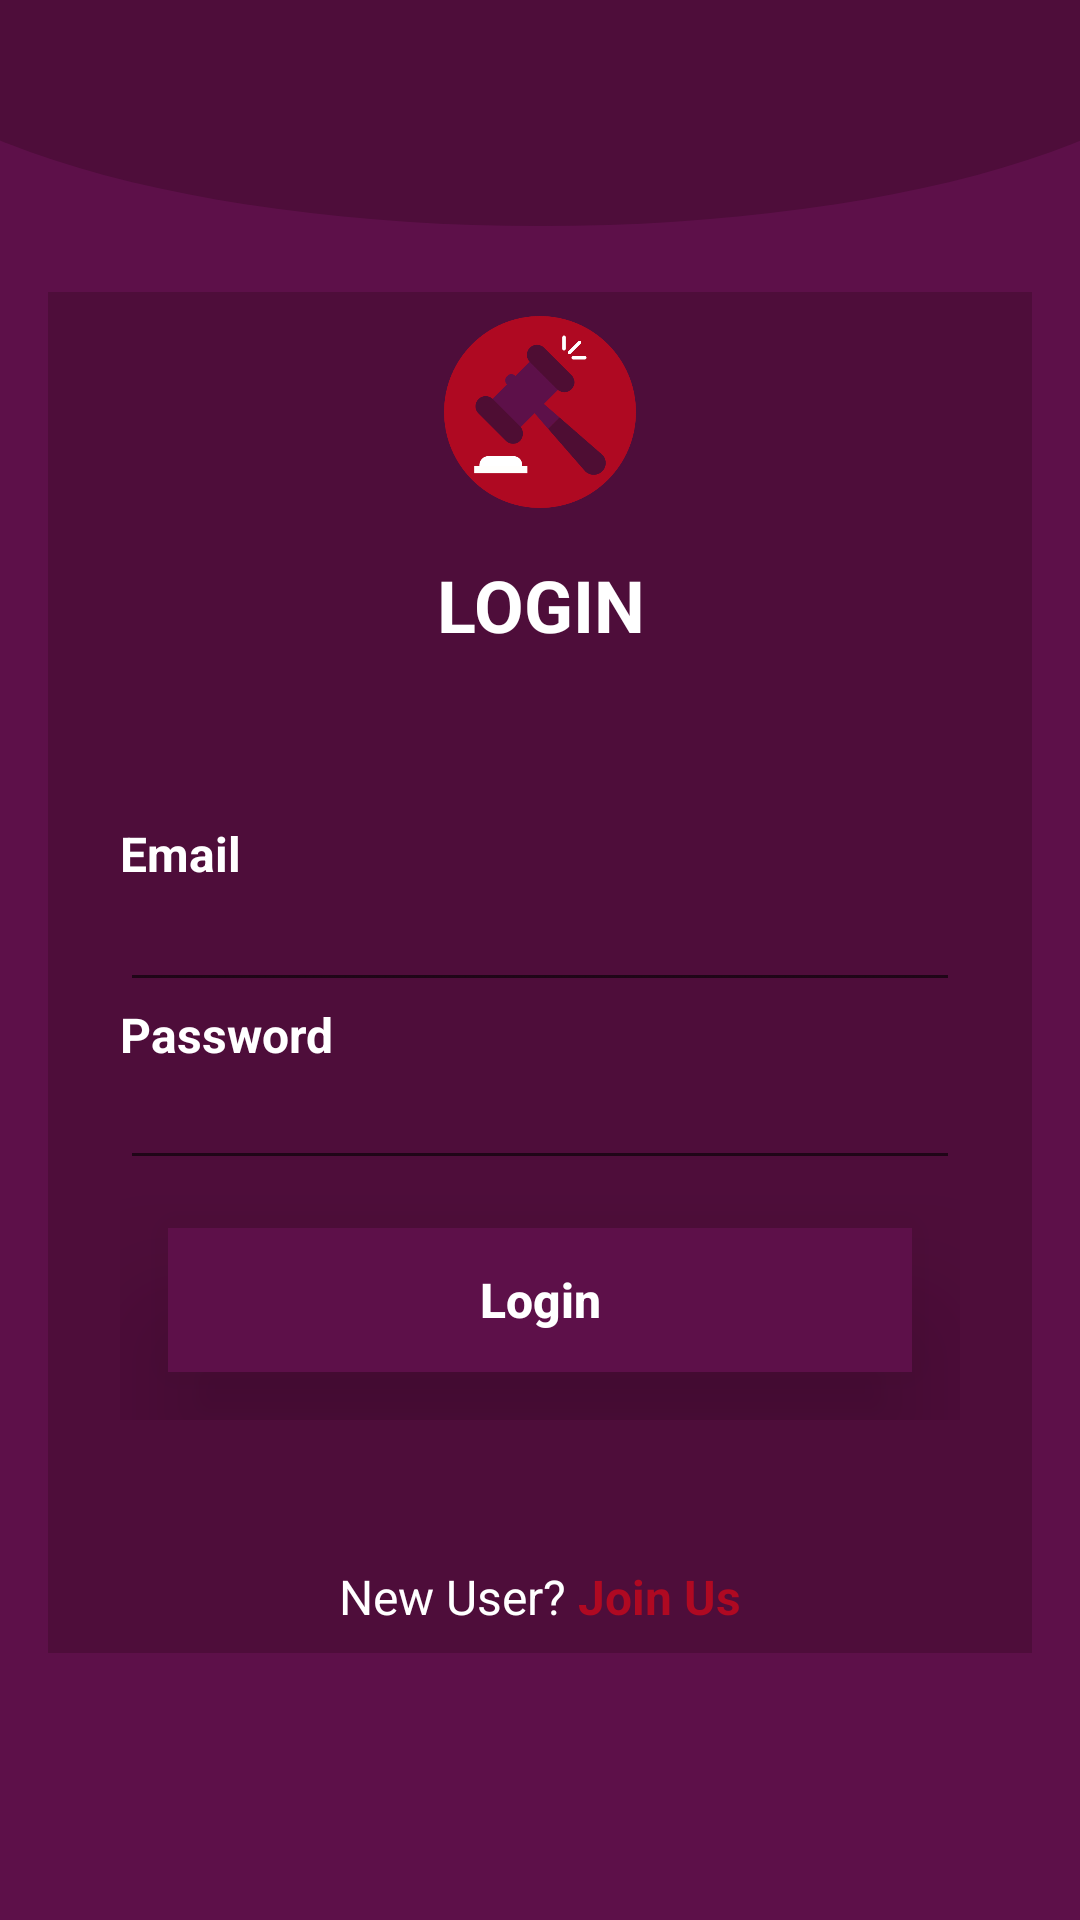

Named icons in this screenshot (1080*1920) and their bounding boxes, (x1, y1, x2, y2):
law: (444, 316, 636, 508)
